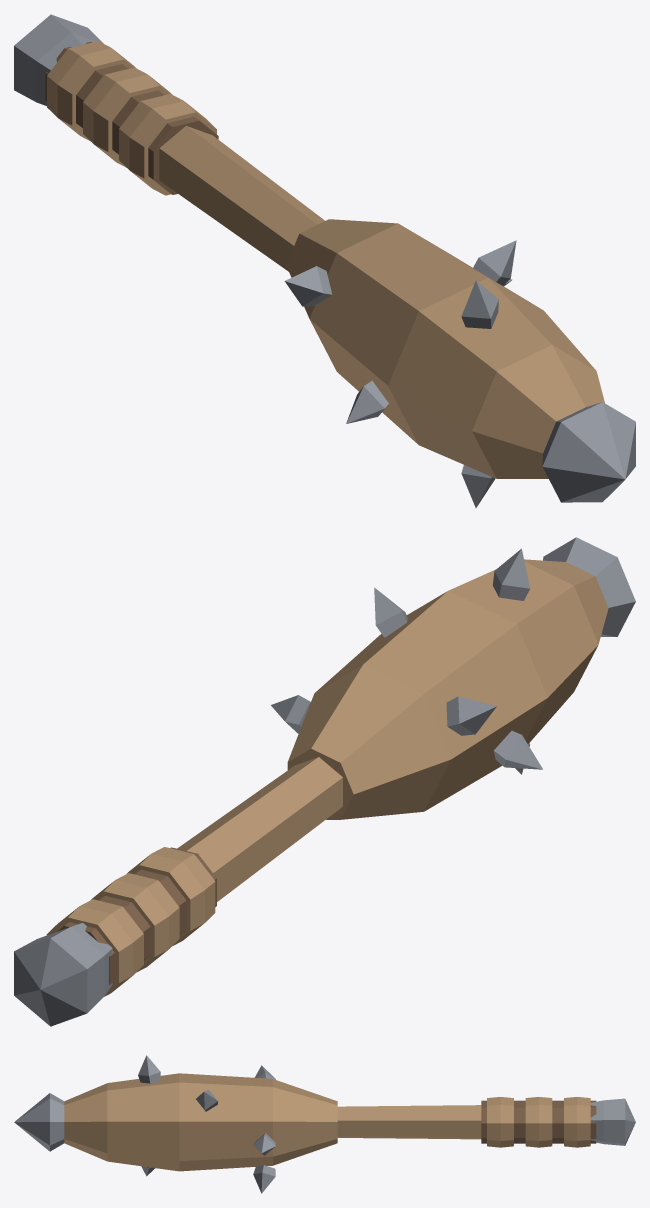
Rendered from boundclub.glb.
The picture shows the model from 3 angles, top to bottom: view 1: azimuth 30°, elevation 25°; view 2: azimuth 150°, elevation 25°; view 3: azimuth 270°, elevation 25°; orthographic projection. The views are drawn at different scales.
Parts seen in each view (by area): view 1: boundclub; view 2: boundclub; view 3: boundclub.
Part boxes in pixels (box(x1,y1,x2,y2)): boundclub: box(14, 14, 635, 507); boundclub: box(14, 537, 635, 1026); boundclub: box(14, 1055, 635, 1193).
Size of the model in its own units: 0.195 by 0.1864 by 0.865.
